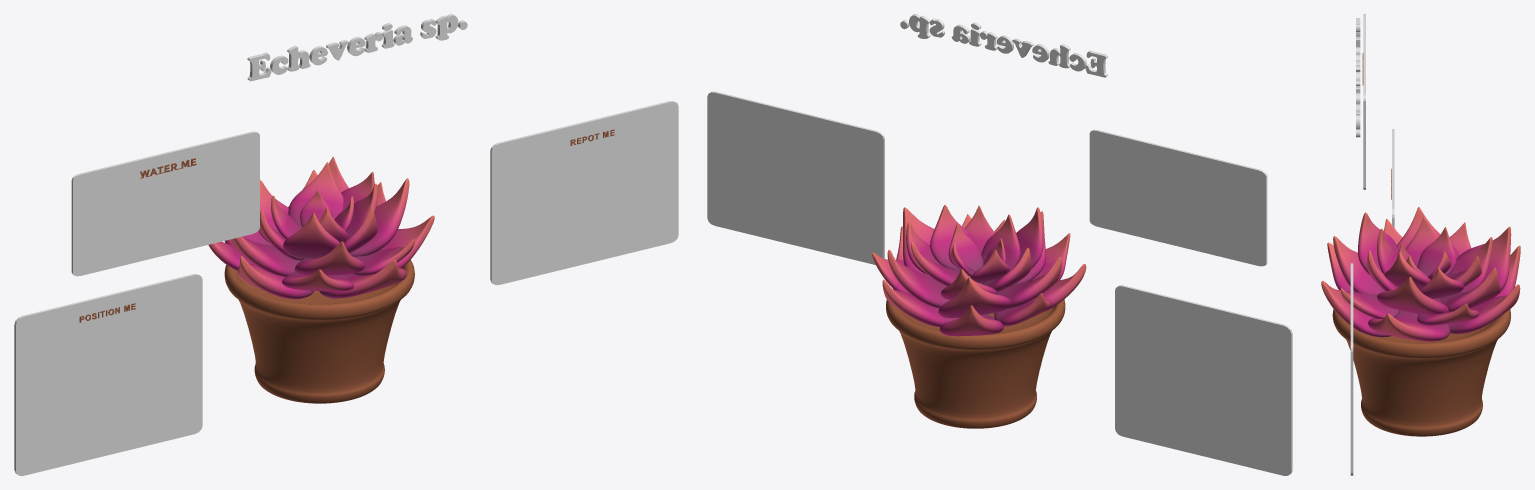
File: Echeveria_rev.glb
3 views of the same model, side by side, from view 1: azimuth 30°, elevation 25°; view 2: azimuth 150°, elevation 25°; view 3: azimuth 270°, elevation 25° (orthographic). The views are drawn at different scales.
Parts seen in each view (by area): view 1: Plane.001, Plane, Plane.002, Cylinder, Text, Cube.028, Cube.002, Cube.023, Cube.004, Cube.027, Cube.001, Cube.035 (+5 smaller); view 2: Plane.001, Plane, Plane.002, Cylinder, Text, Cube.030, Cube.029, Cube.037, Cube.005, Cube.004, Cube.024, Cube.022 (+10 smaller); view 3: Cylinder, Cube.036, Cube.028, Cube.037, Cube.027, Cube.029, Cube.001, Cube.030, Cube.019, Cube.002, Cube.026, Cube.031 (+17 smaller).
Part boxes in pixels (x1=…): Plane.001: x1=14, y1=274, x2=202, y2=475; Plane: x1=490, y1=101, x2=678, y2=285; Plane.002: x1=71, y1=131, x2=259, y2=276; Cylinder: x1=224, y1=260, x2=414, y2=403; Text: x1=247, y1=14, x2=467, y2=81; Cube.028: x1=350, y1=178, x2=409, y2=256; Cube.002: x1=283, y1=213, x2=339, y2=258; Cube.023: x1=288, y1=162, x2=343, y2=227; Cube.004: x1=231, y1=236, x2=300, y2=276; Cube.027: x1=294, y1=241, x2=364, y2=275; Cube.001: x1=319, y1=260, x2=406, y2=298; Cube.035: x1=237, y1=256, x2=314, y2=299; Plane.001: x1=1115, y1=285, x2=1292, y2=475; Plane: x1=707, y1=91, x2=884, y2=264; Plane.002: x1=1089, y1=129, x2=1267, y2=266; Cylinder: x1=886, y1=288, x2=1065, y2=428; Text: x1=900, y1=14, x2=1107, y2=77; Cube.030: x1=938, y1=277, x2=1011, y2=318; Cube.029: x1=887, y1=249, x2=949, y2=308; Cube.037: x1=882, y1=279, x2=958, y2=327; Cube.005: x1=939, y1=305, x2=1003, y2=336; Cube.004: x1=997, y1=257, x2=1061, y2=309; Cube.024: x1=930, y1=205, x2=975, y2=270; Cube.022: x1=981, y1=214, x2=1020, y2=282; Cylinder: x1=1332, y1=309, x2=1510, y2=436; Cube.036: x1=1368, y1=310, x2=1450, y2=341; Cube.028: x1=1377, y1=277, x2=1448, y2=314; Cube.037: x1=1448, y1=284, x2=1520, y2=334; Cube.027: x1=1333, y1=236, x2=1384, y2=294; Cube.029: x1=1439, y1=268, x2=1501, y2=311; Cube.001: x1=1321, y1=280, x2=1390, y2=337; Cube.030: x1=1457, y1=226, x2=1511, y2=290; Cube.019: x1=1417, y1=227, x2=1456, y2=276; Cube.002: x1=1358, y1=212, x2=1398, y2=274; Cube.026: x1=1451, y1=237, x2=1492, y2=292; Cube.031: x1=1340, y1=288, x2=1399, y2=318.
Size of the model in its own units: 242 by 138 by 69.64.
3 materials, 1 textured.
